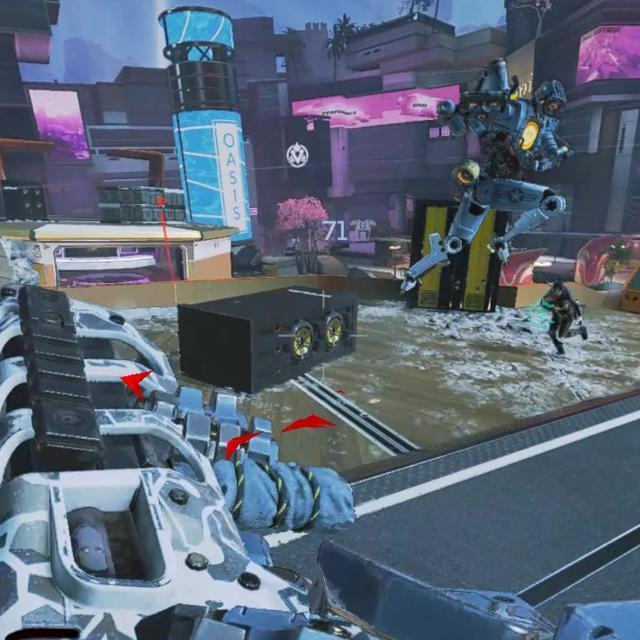avatar: (436, 77, 569, 265), (538, 279, 589, 357)
